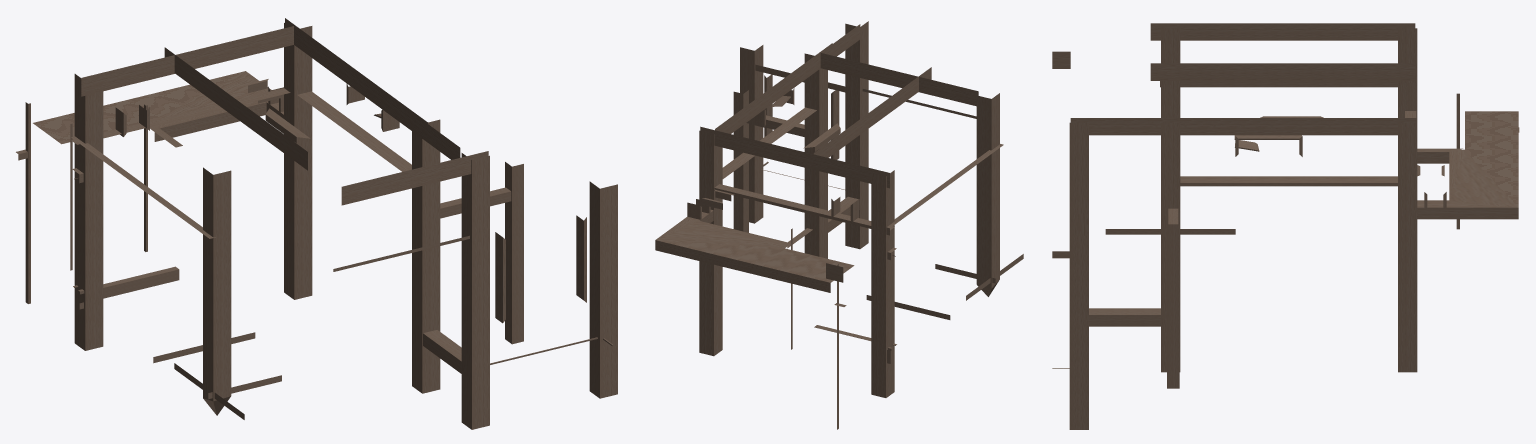
The model's file is kd_stage_135c43_4_33_bounded.glb.
3 views of the same model, side by side, from view 1: azimuth 30°, elevation 25°; view 2: azimuth 150°, elevation 25°; view 3: azimuth 270°, elevation 25° (orthographic). The views are drawn at different scales.
Parts seen in each view (by area): view 1: kd_stage_135c43_4_33_bounded; view 2: kd_stage_135c43_4_33_bounded; view 3: kd_stage_135c43_4_33_bounded.
Boxes of the visible parts, left/top/right/bottom form: kd_stage_135c43_4_33_bounded: left=16, top=18, right=617, bottom=429; kd_stage_135c43_4_33_bounded: left=655, top=21, right=1023, bottom=429; kd_stage_135c43_4_33_bounded: left=1052, top=23, right=1519, bottom=429.
Bounding box in the file's own units: 5.99 × 4.39 × 7.33.
1 material, 1 textured.
